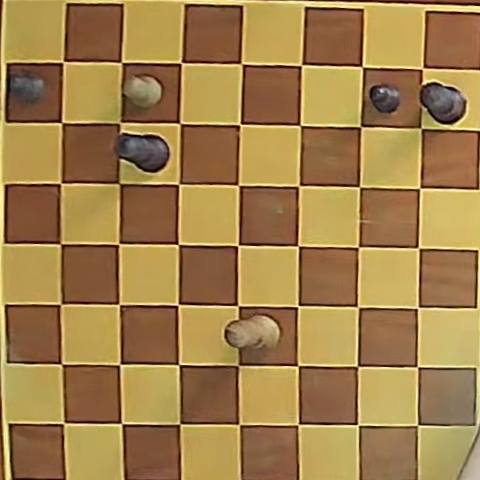black-king: (420, 82, 466, 123)
black-pawn: (9, 71, 45, 103), (369, 84, 401, 113)
black-queen: (117, 133, 170, 173)
white-king: (226, 315, 280, 350)
white-pawn: (124, 74, 163, 107)
